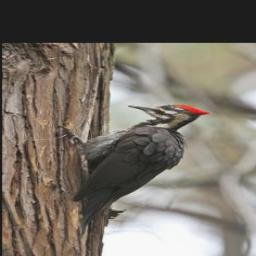Woodpecker: (55, 103, 212, 235)
